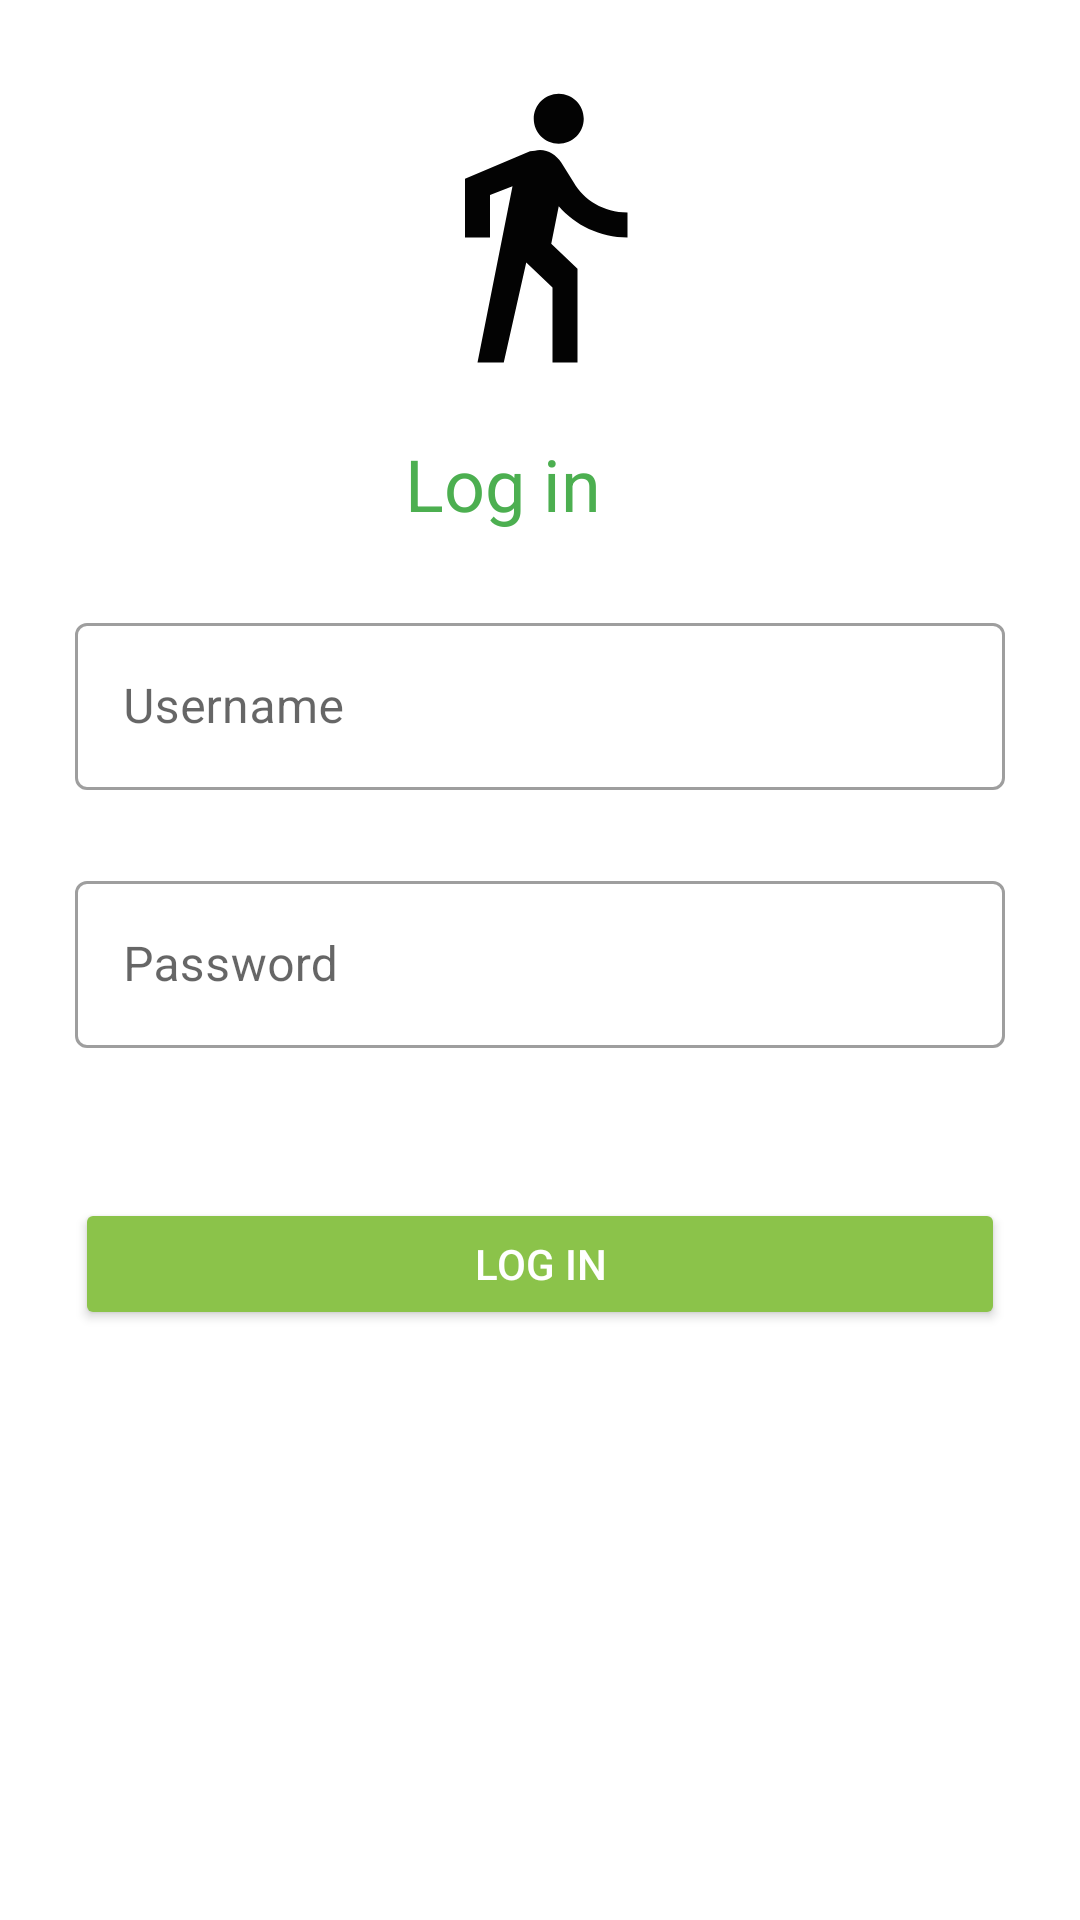

Icons on this 1080px×1920px Android screen, each with the point to tap as [x,y]:
directions walk: [546,228]
